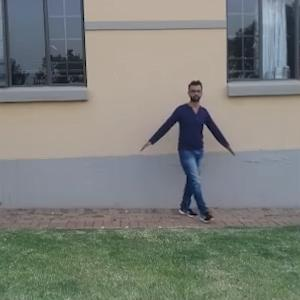land: (136, 85, 231, 230)
